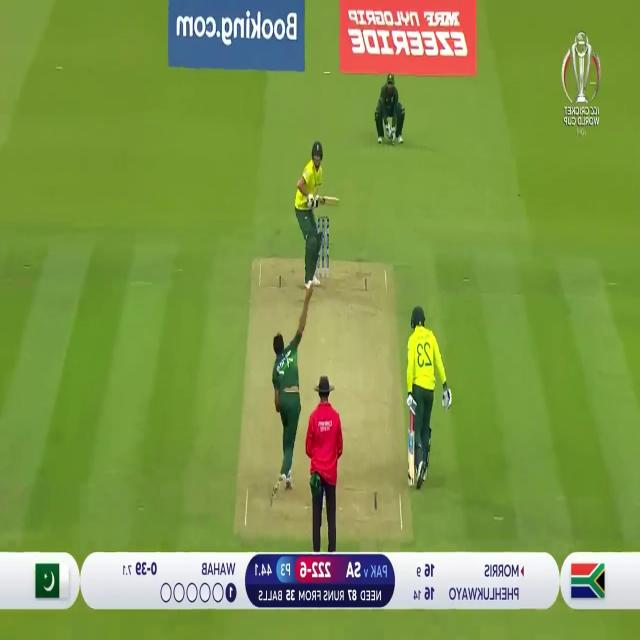ball: (305, 276, 317, 292)
